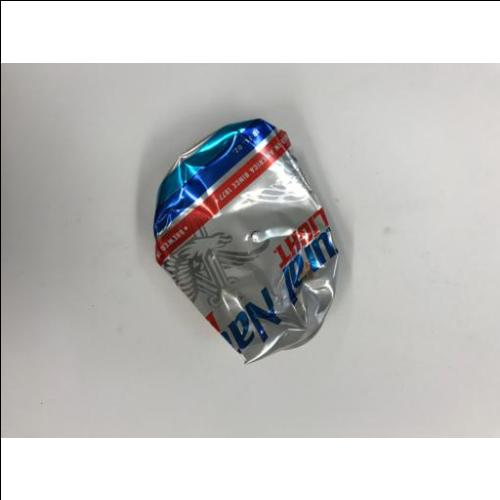metal: (157, 119, 336, 359)
